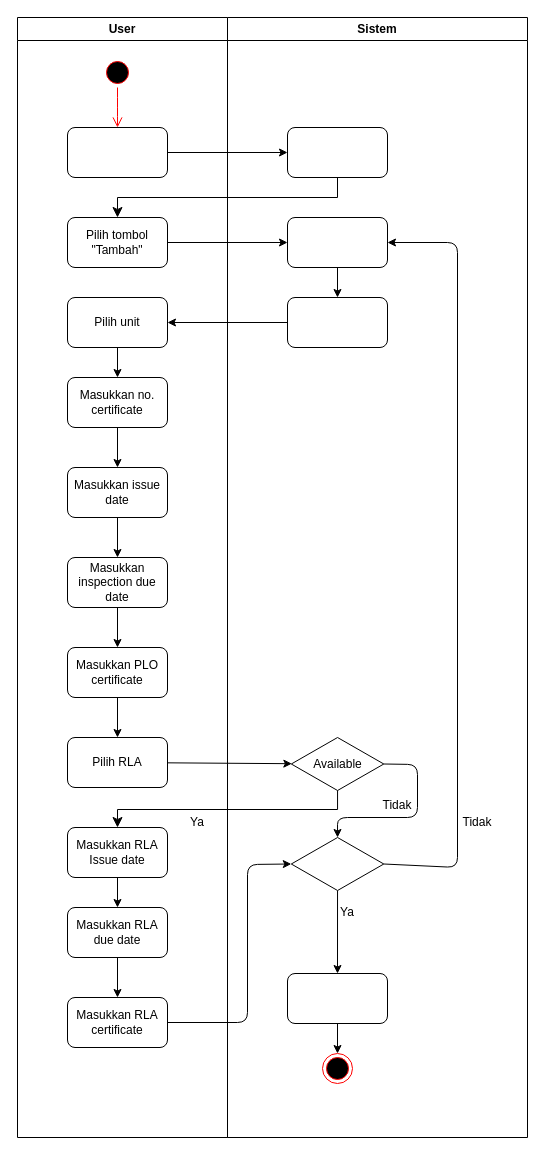
Image size: 545x1155. Some labels were removed from this diagram. The centre of each missing label's shape, as x and y in pixels:
Membuka halaman PLO: the point at 117,152
Menampilkan halaman PLO: the point at 337,152
Menampilkan halaman tambah PLO: the point at 337,242
Mengambil dari data unit: the point at 337,322
Menyimpan data PLO: the point at 337,998
Validasi Data: the point at 337,863
